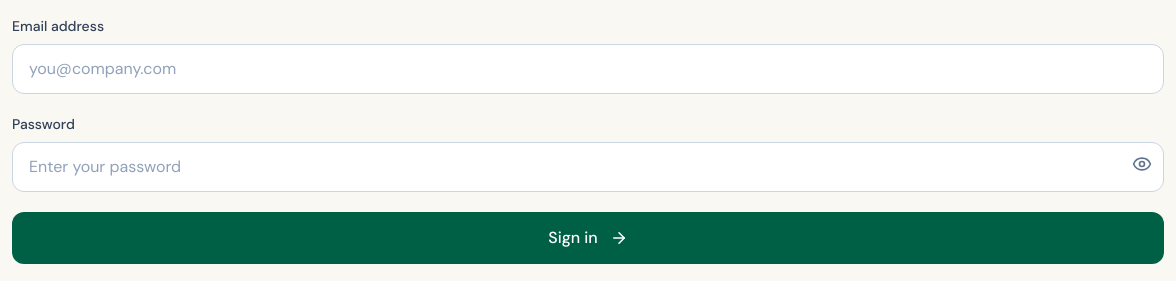
login interface › disables submission while the request is pending
Type "owner@example.com" into the field labelled "Email address". click: (588, 69)
box: [12,44,1164,94]
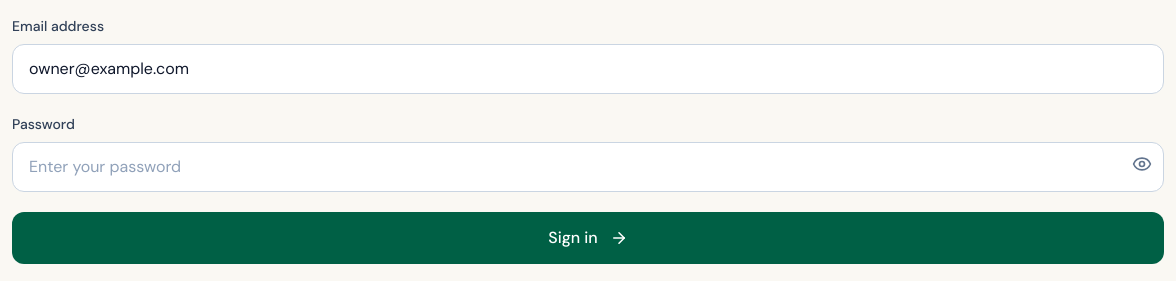
Type "secret" into the password field labelled "Password". click: (588, 167)
box: [12,142,1164,192]
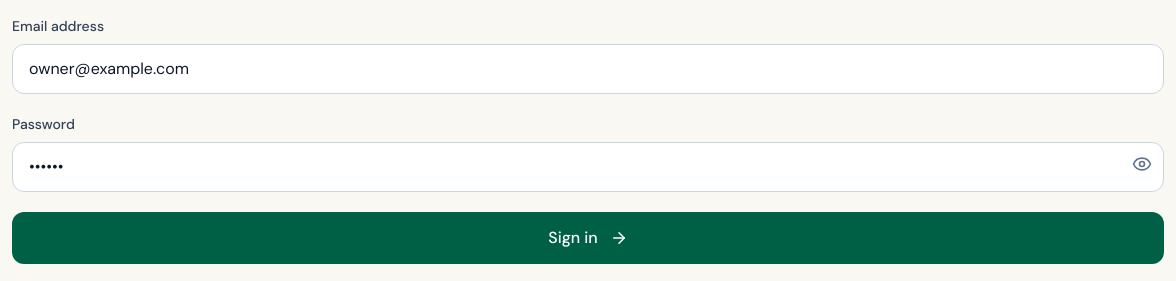
Submit the form "Sign in"
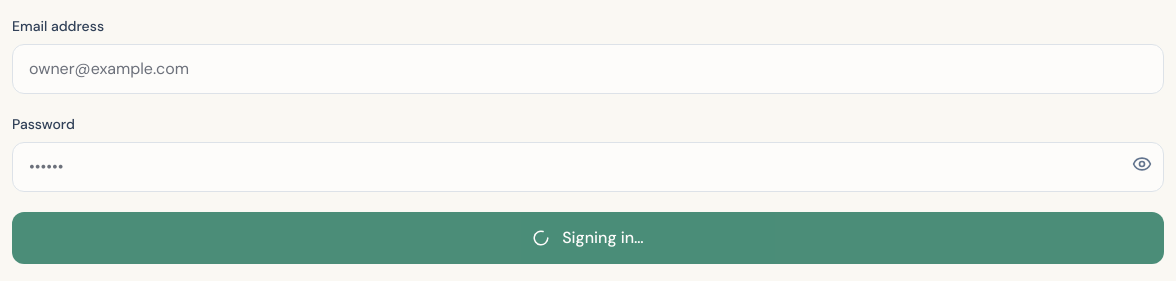
expect the button "Signing in…" is disabled: met, box [12,212,1164,264]
